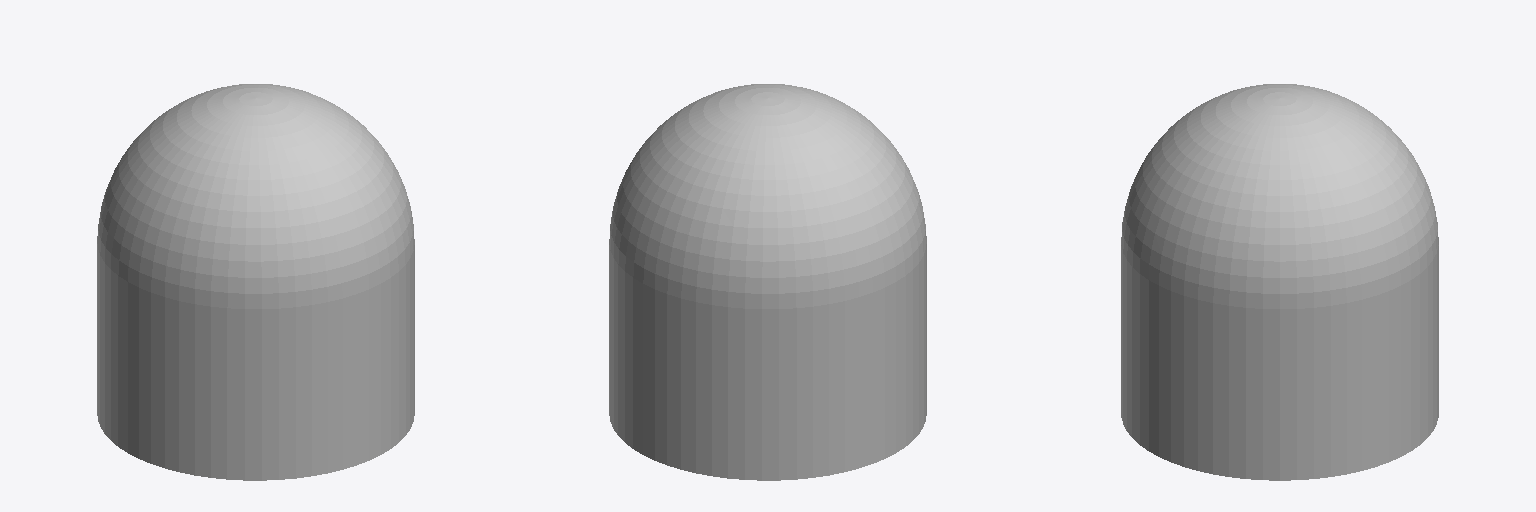
File: CylinderWithDome.obj
3 renders of one model, left to right at view 1: azimuth 30°, elevation 25°; view 2: azimuth 150°, elevation 25°; view 3: azimuth 270°, elevation 25°, orthographic.
Visible parts, largest first — view 1: mesh0, mesh1; view 2: mesh0, mesh1; view 3: mesh0, mesh1.
Boxes of the visible parts, box(x1,y1,x2,y2) form: mesh0: box(97, 84, 414, 308); mesh1: box(97, 244, 414, 480); mesh0: box(609, 84, 926, 308); mesh1: box(609, 244, 926, 480); mesh0: box(1121, 84, 1438, 308); mesh1: box(1121, 246, 1438, 480).
Bounding box in the file's own units: 0.042 × 0.046 × 0.0419.